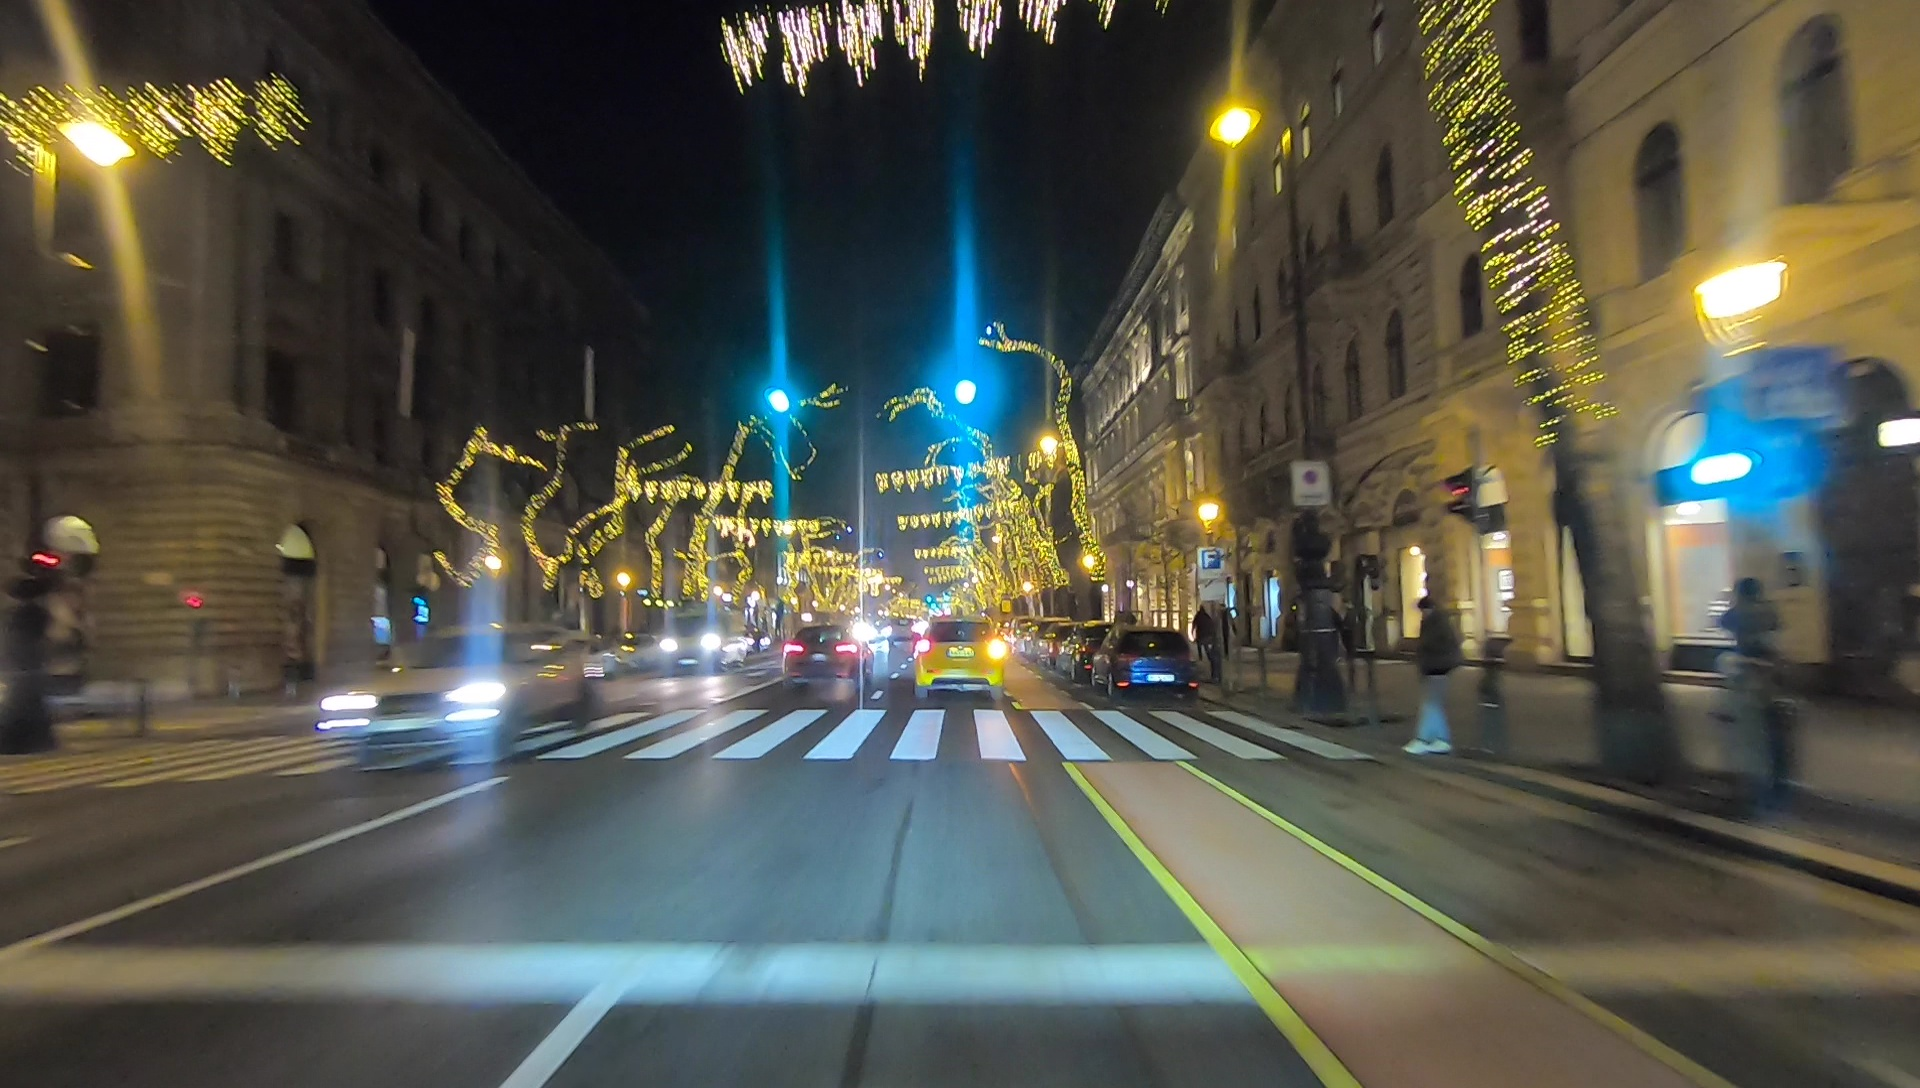person: (1710, 571, 1778, 761), (1410, 593, 1454, 756), (1189, 606, 1208, 665)
